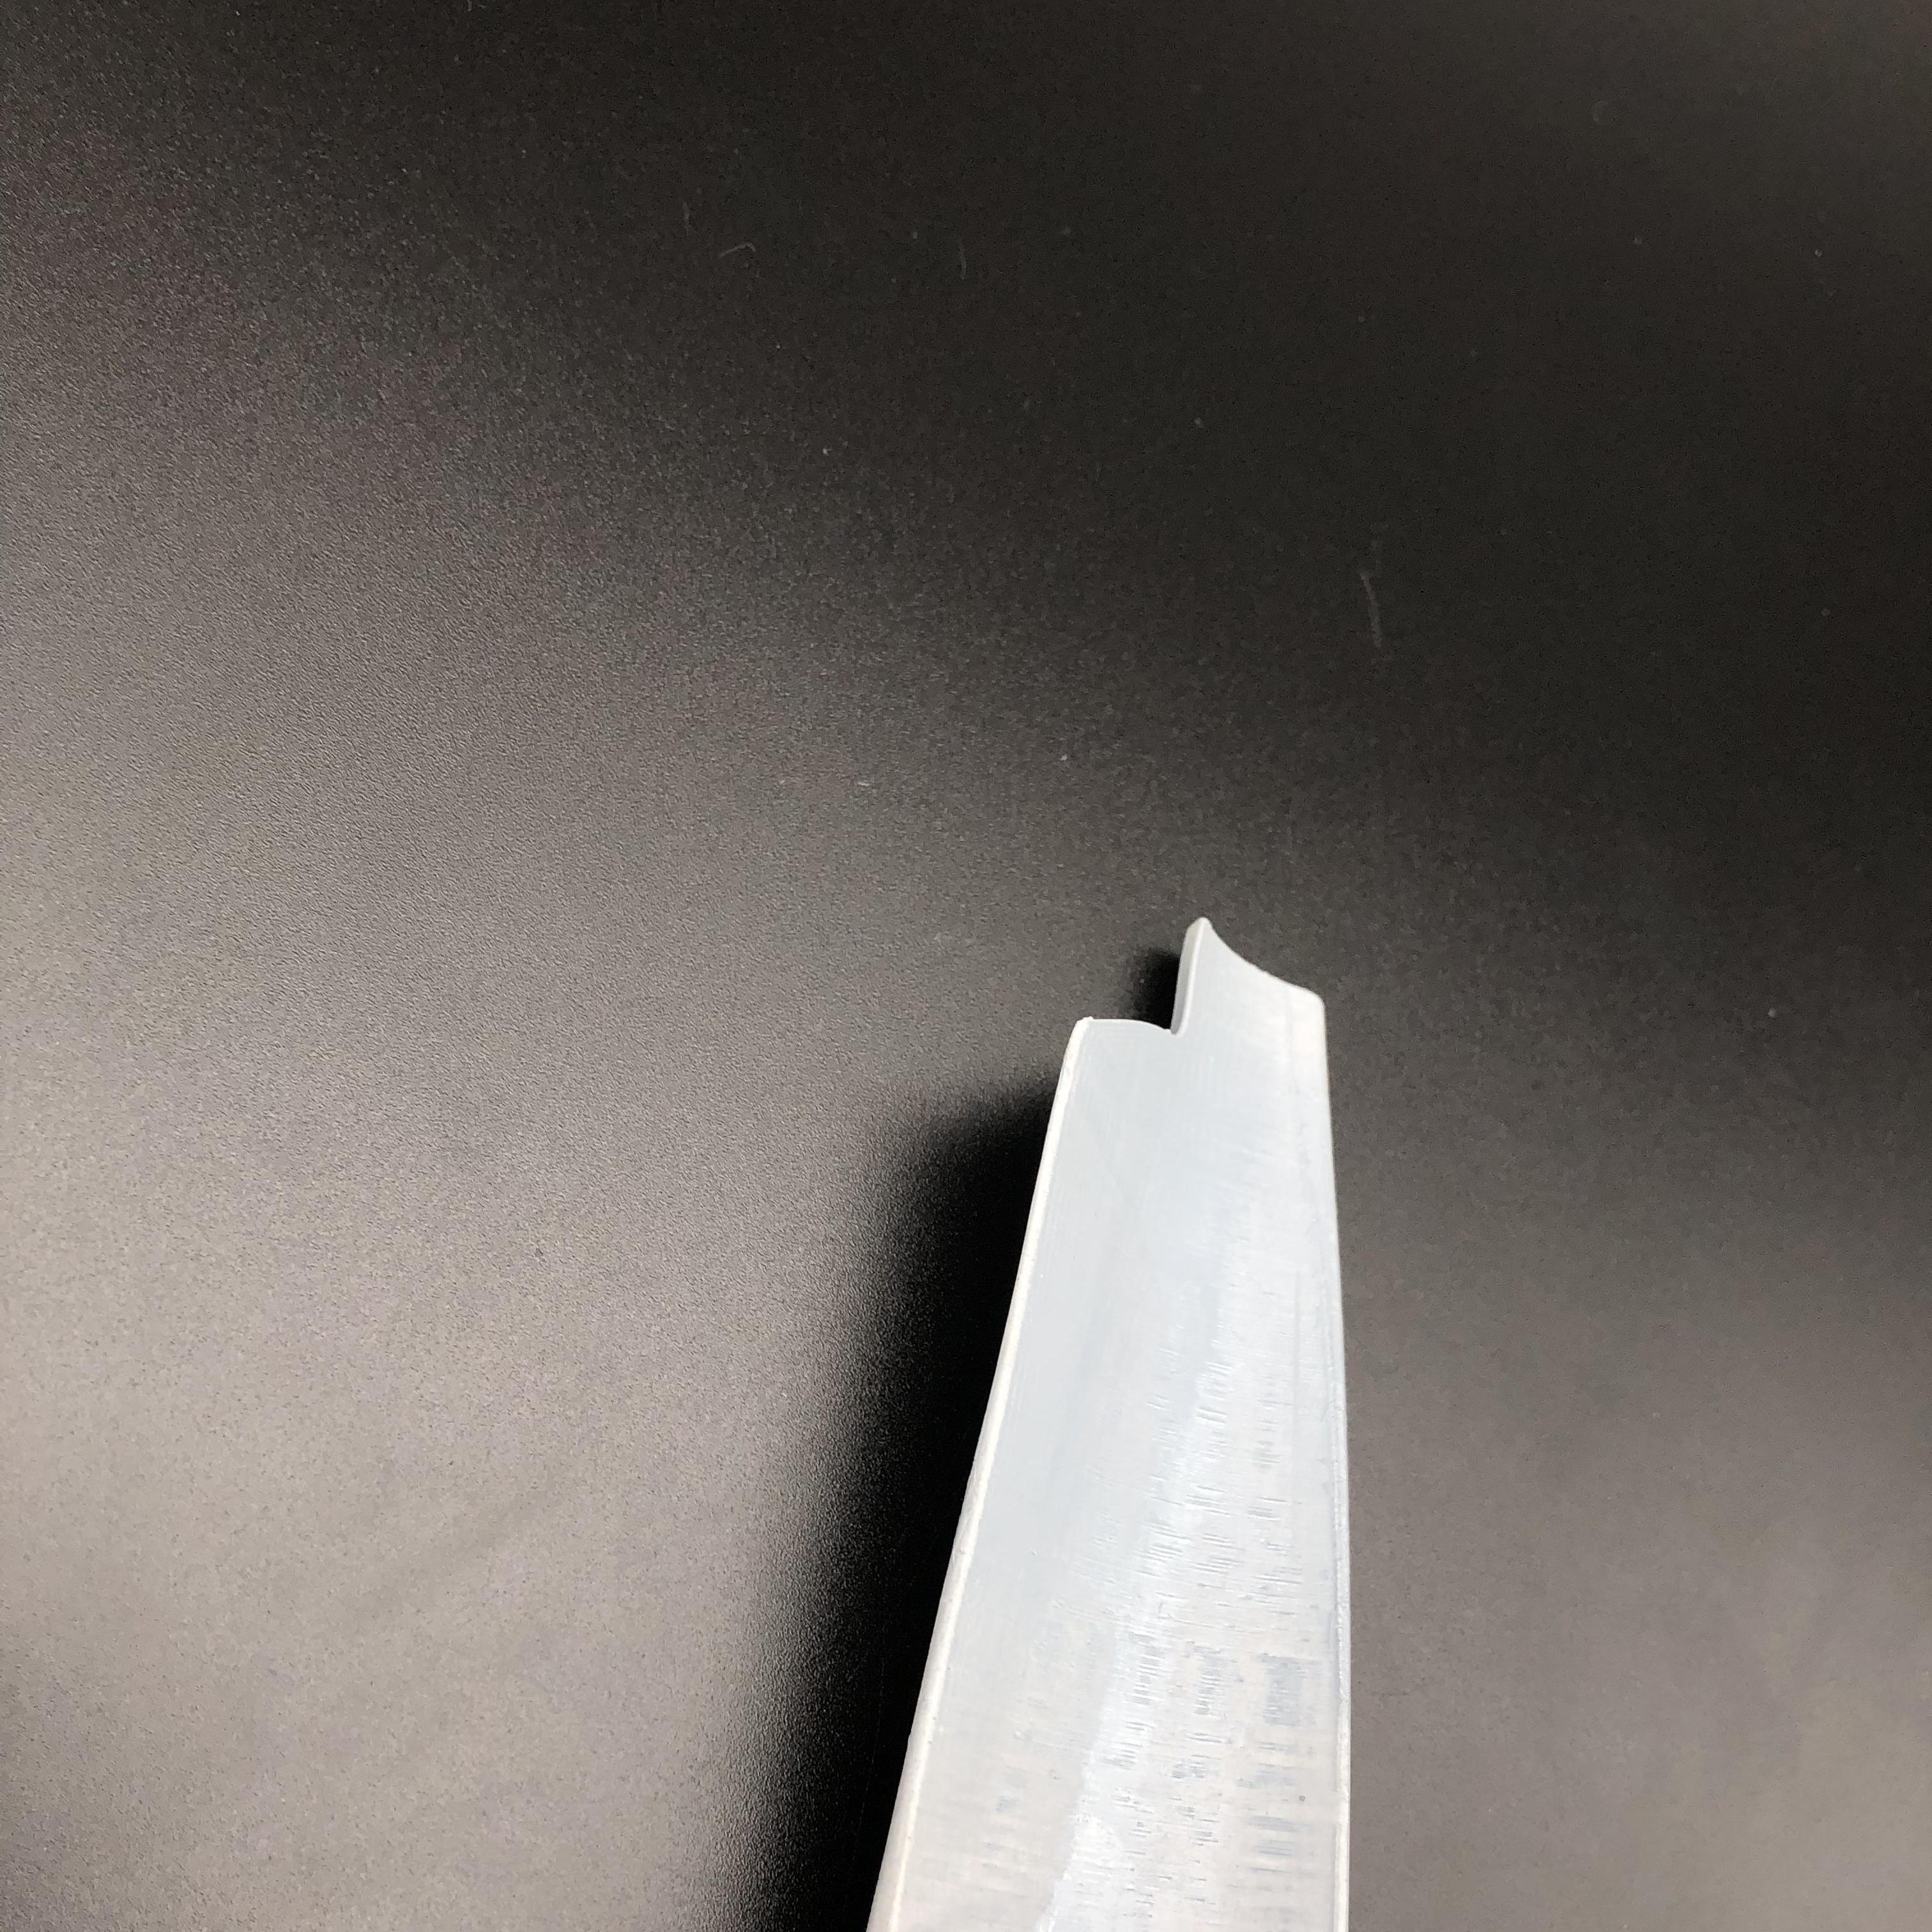fracture: (1083, 925, 1244, 1042)
